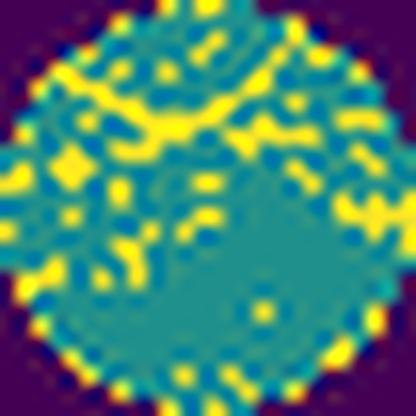Scratch: (46, 16, 310, 168)
